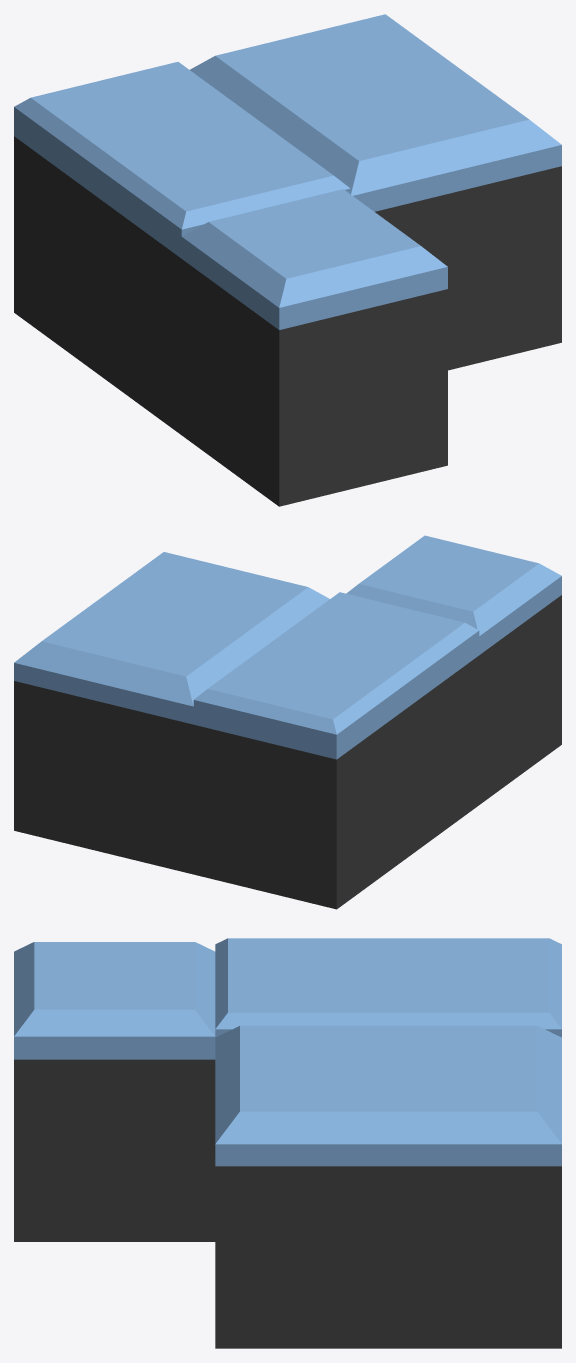
The model's file is dunduki.fbx.
The picture shows the model from 3 angles, top to bottom: view 1: azimuth 30°, elevation 25°; view 2: azimuth 150°, elevation 25°; view 3: azimuth 270°, elevation 25°; orthographic projection. The views are drawn at different scales.
Visible parts, largest first — view 1: Cube; view 2: Cube; view 3: Cube.
Part boxes in pixels (x1,y1,x2,y2): Cube: (14,14,561,506); Cube: (14,535,561,909); Cube: (14,938,561,1348).
Size of the model in its own units: 451 by 249 by 545.
